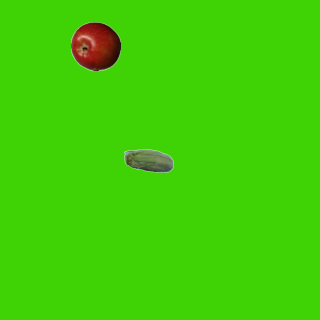Apple Braeburn: (70, 21, 120, 71)
Corn Husk: (123, 137, 173, 187)
